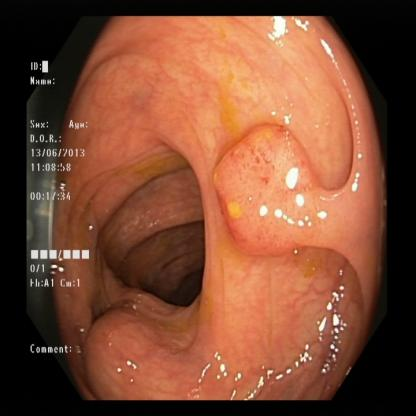Labels: (30, 55, 92, 367)
Polyps: (220, 128, 314, 252), (89, 320, 177, 400)
